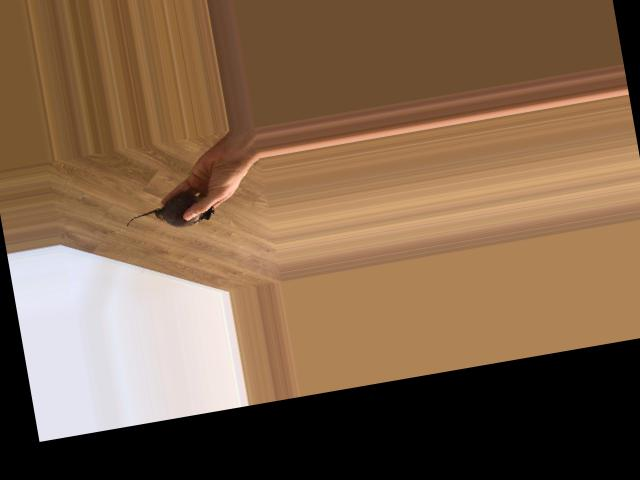beet: (122, 189, 216, 236)
